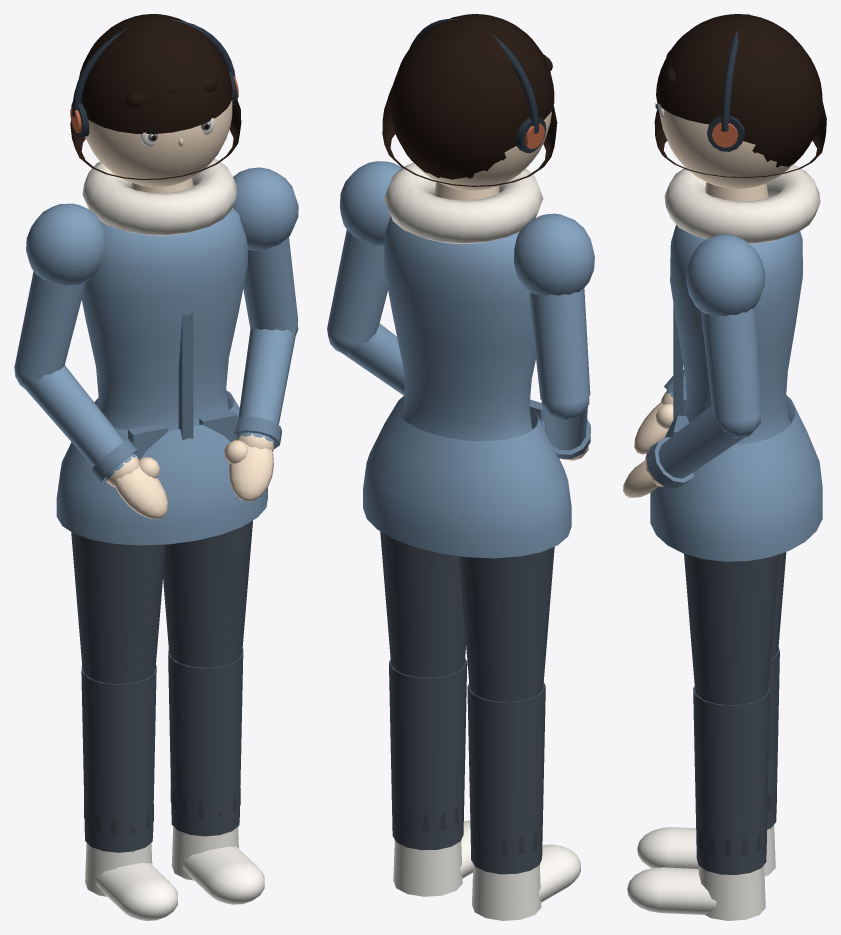
Rendered from 14-anya.glb.
3 renders of one model, left to right at view 1: azimuth 30°, elevation 25°; view 2: azimuth 150°, elevation 25°; view 3: azimuth 270°, elevation 25°, orthographic. The views are drawn at different scales.
Visible parts, largest first — view 1: Anya, skull, elbow (×2), armR, armL; view 2: Anya, skull, armR, armL, elbow (×2); view 3: Anya, skull, armL, elbow (×2).
Part boxes in pixels (x1=…): Anya: x1=56, y1=158, x2=267, y2=920; skull: x1=70, y1=14, x2=241, y2=187; elbow (×2): x1=14, y1=326, x2=298, y2=519; armR: x1=15, y1=203, x2=105, y2=379; armL: x1=232, y1=167, x2=298, y2=332; Anya: x1=363, y1=163, x2=580, y2=920; skull: x1=382, y1=14, x2=557, y2=190; armR: x1=513, y1=213, x2=594, y2=403; armL: x1=327, y1=161, x2=401, y2=343; elbow (×2): x1=327, y1=323, x2=590, y2=460; Anya: x1=627, y1=164, x2=822, y2=920; skull: x1=654, y1=14, x2=826, y2=188; armL: x1=686, y1=234, x2=764, y2=421; elbow (×2): x1=623, y1=369, x2=760, y2=497.
Bounding box in the file's own units: 0.4112 × 1.28 × 0.2728.
